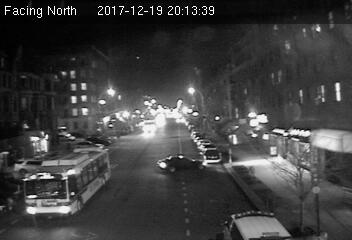bus: (21, 145, 114, 216)
car: (204, 150, 222, 164)
police: (217, 209, 289, 240)
